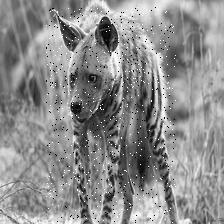hyena: (45, 7, 176, 224)
